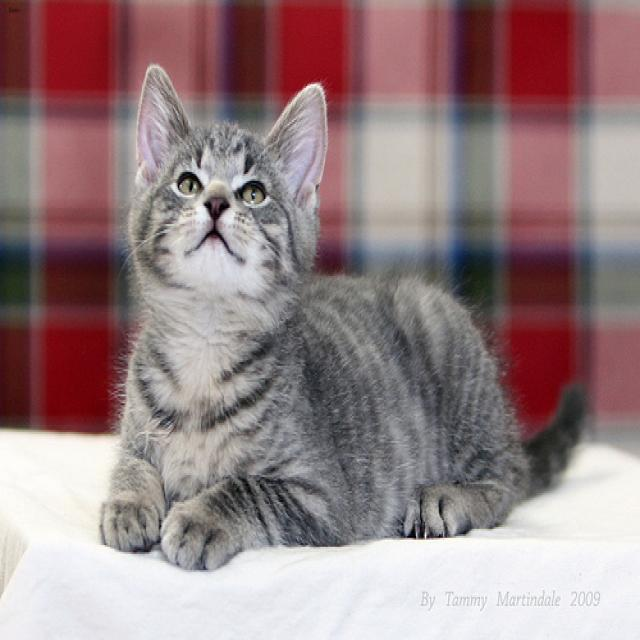Egyptian_Mau: (127, 63, 335, 343)
